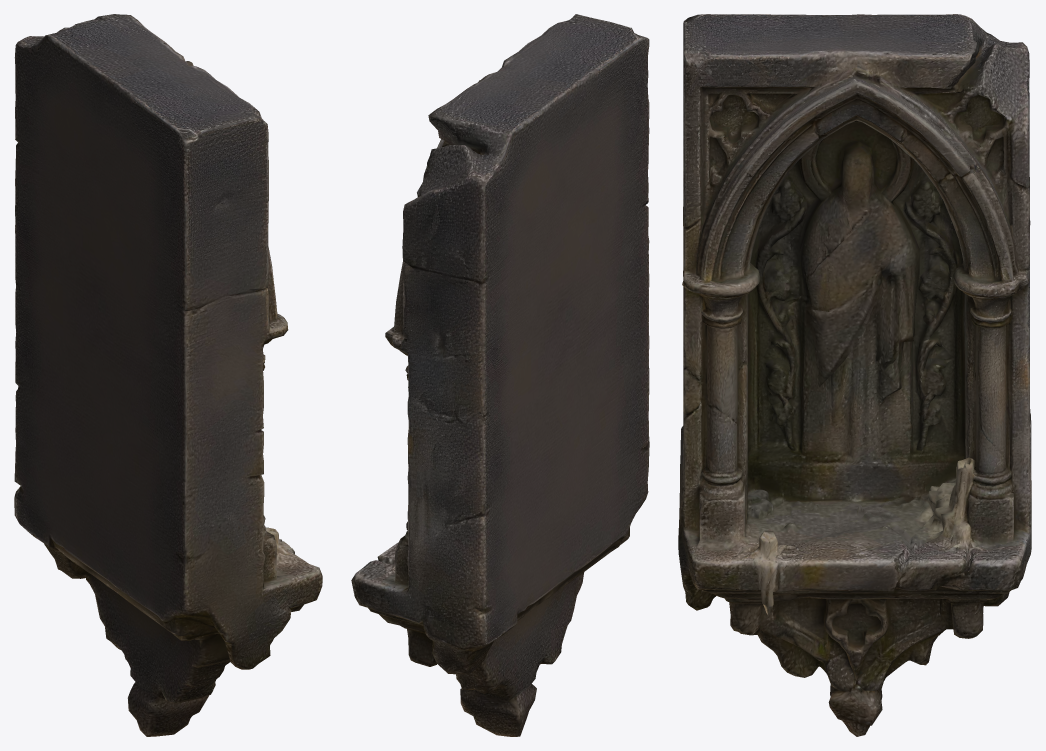
The model's file is reliquary-wall-alcove.glb.
3 renders of one model, left to right at view 1: azimuth 30°, elevation 25°; view 2: azimuth 150°, elevation 25°; view 3: azimuth 270°, elevation 25°, orthographic. The views are drawn at different scales.
Visible parts, largest first — view 1: tripo_node_9c0fd7e9-1f06-4abb-8790-05739ab78904; view 2: tripo_node_9c0fd7e9-1f06-4abb-8790-05739ab78904; view 3: tripo_node_9c0fd7e9-1f06-4abb-8790-05739ab78904.
Part boxes in pixels (box(x1,y1,x2,y2)): tripo_node_9c0fd7e9-1f06-4abb-8790-05739ab78904: box(14, 14, 322, 736); tripo_node_9c0fd7e9-1f06-4abb-8790-05739ab78904: box(351, 14, 649, 736); tripo_node_9c0fd7e9-1f06-4abb-8790-05739ab78904: box(678, 14, 1031, 736).
Bounding box in the file's own units: 0.2293 × 1 × 0.4656.
Materials: 1 (1 with a texture image).
